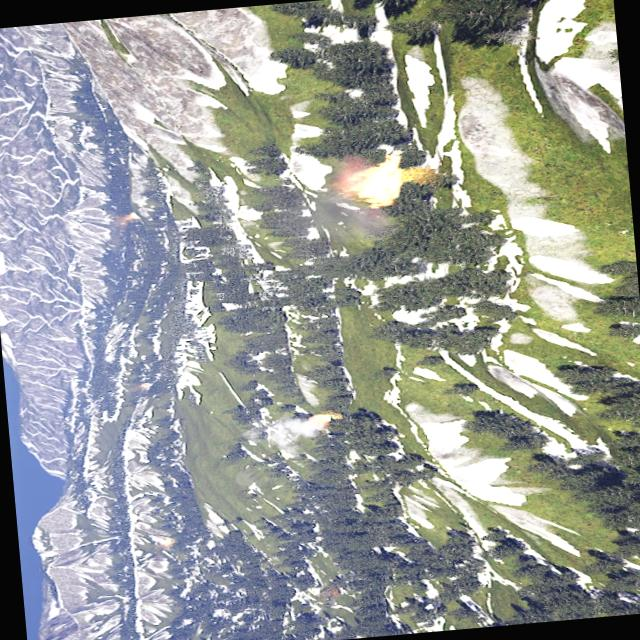fire: (344, 154, 406, 208), (314, 408, 342, 426), (128, 210, 141, 219)
smoke: (240, 413, 320, 467), (110, 212, 130, 228)
